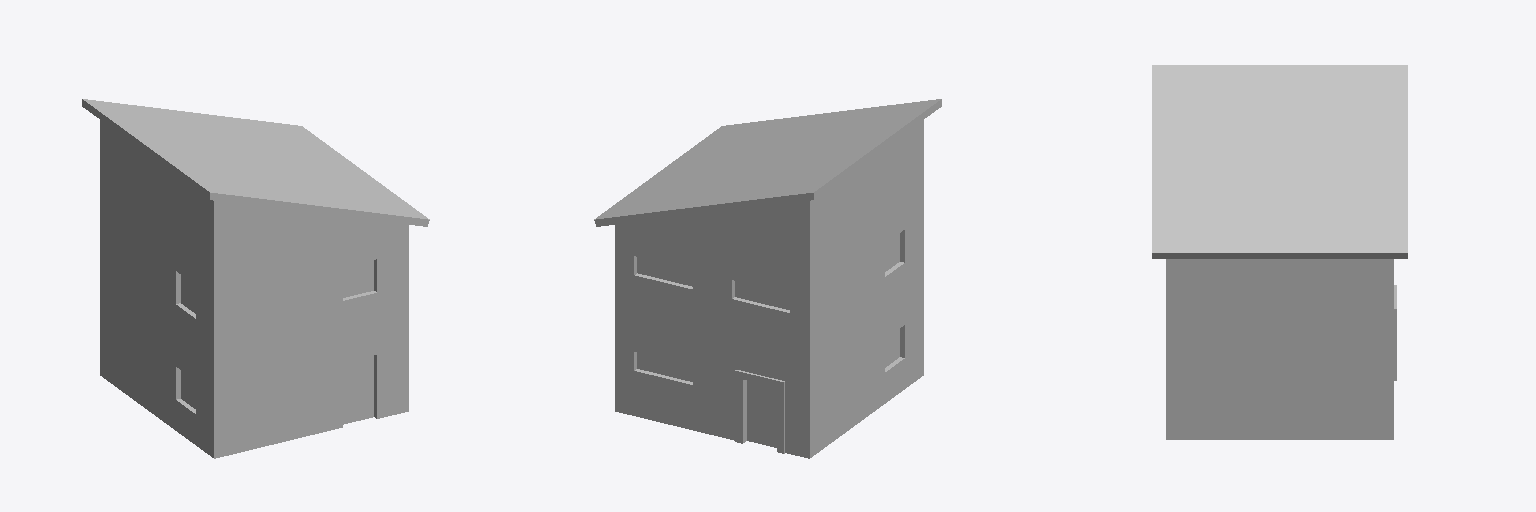
File: city_house_j.obj
The picture shows the model from 3 angles: view 1: azimuth 30°, elevation 25°; view 2: azimuth 150°, elevation 25°; view 3: azimuth 270°, elevation 25°; orthographic projection.
Parts seen in each view (by area): view 1: mergedBlocks; view 2: mergedBlocks; view 3: mergedBlocks.
Part boxes in pixels (bbox=[...]): mergedBlocks: bbox=[82, 99, 429, 458]; mergedBlocks: bbox=[594, 99, 941, 458]; mergedBlocks: bbox=[1152, 65, 1407, 439].
Bounding box in the file's own units: 0.5787 × 0.6898 × 0.5832.